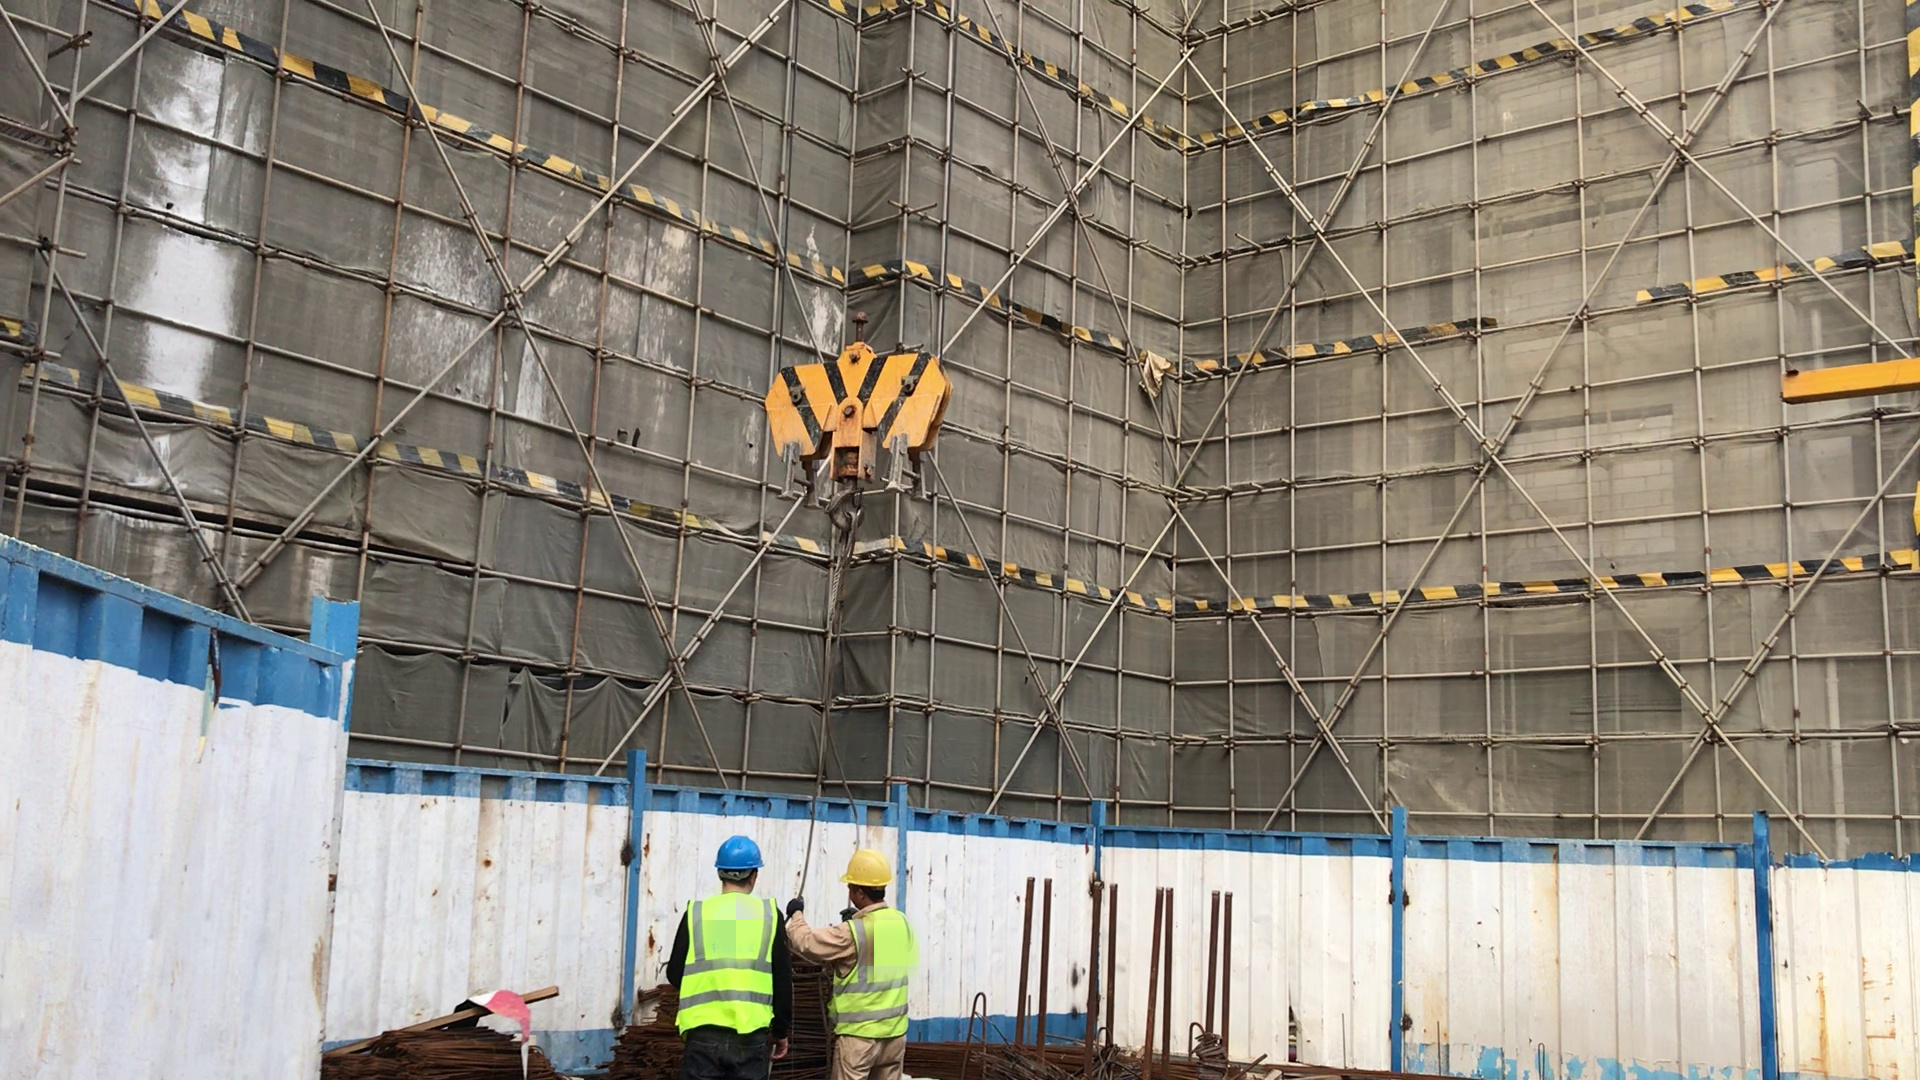helmet: (706, 825, 765, 879), (839, 846, 910, 890)
person: (657, 834, 790, 1077), (792, 841, 912, 1080)
vest: (678, 881, 778, 1040), (827, 905, 920, 1039)
